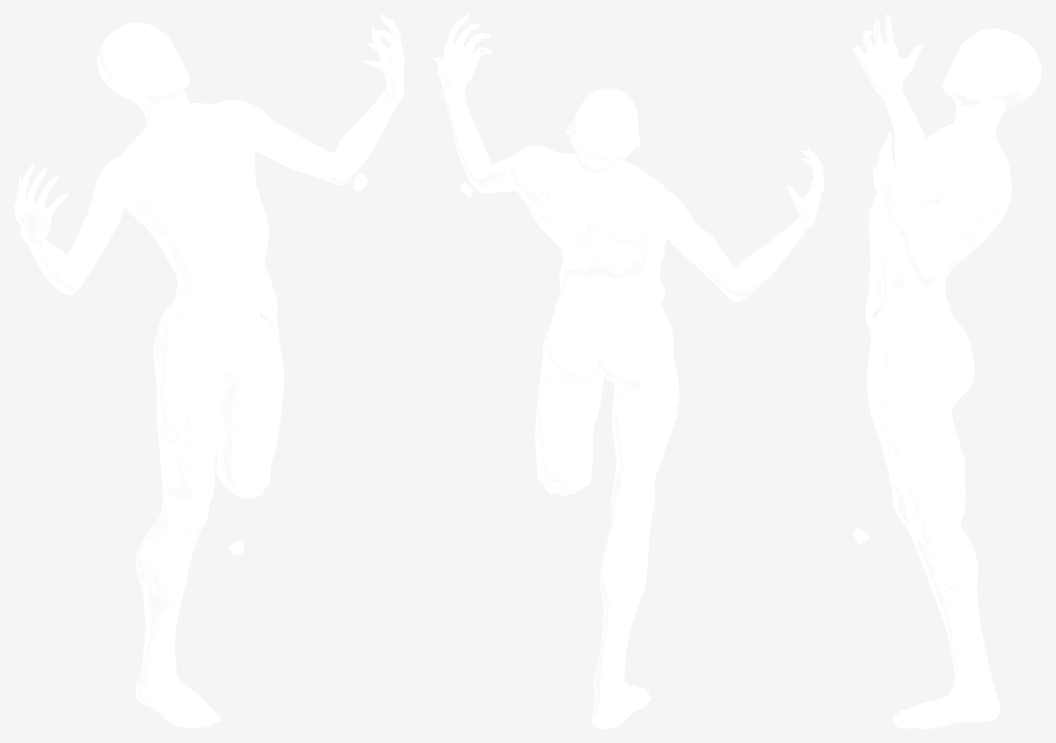
The model's file is figure.glb.
The picture shows the model from 3 angles, left to right: view 1: azimuth 30°, elevation 25°; view 2: azimuth 150°, elevation 25°; view 3: azimuth 270°, elevation 25°; orthographic projection. The views are drawn at different scales.
Size of the model in its own units: 1.16 by 1.9 by 0.4763.
Materials: 1 (1 with a texture image).
